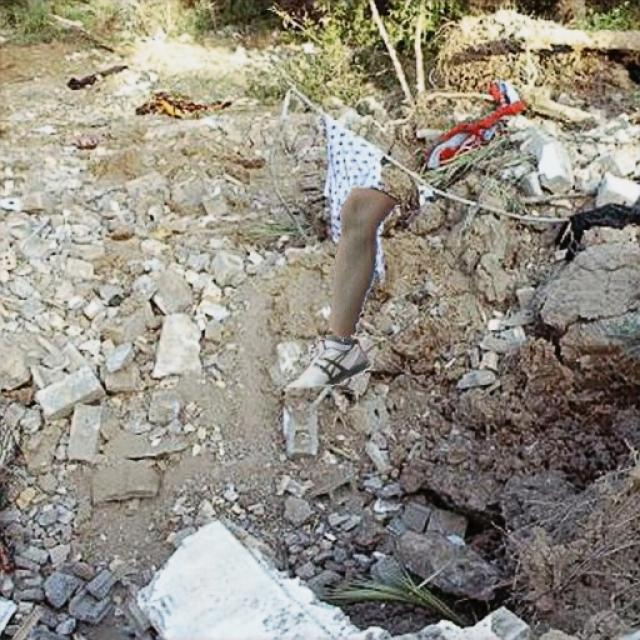Person in Rubble: (286, 188, 400, 386)
